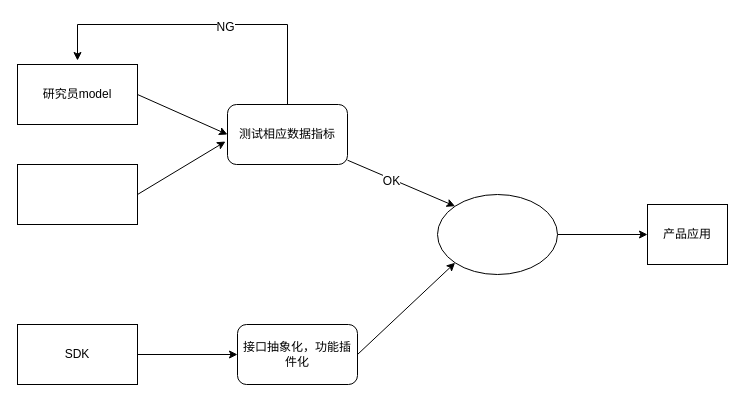
The diagram is 745 pixels wide and 402 high, and some of its shapes have lost their labels. The shapes that lost their labels are listed below. From the top down, each one's centre as x and y in pixels, then its label:
At pixel 77 194: "制定采集标准 项目环境采集数据集".
At pixel 497 234: "实现model与插件的动态绑定".
